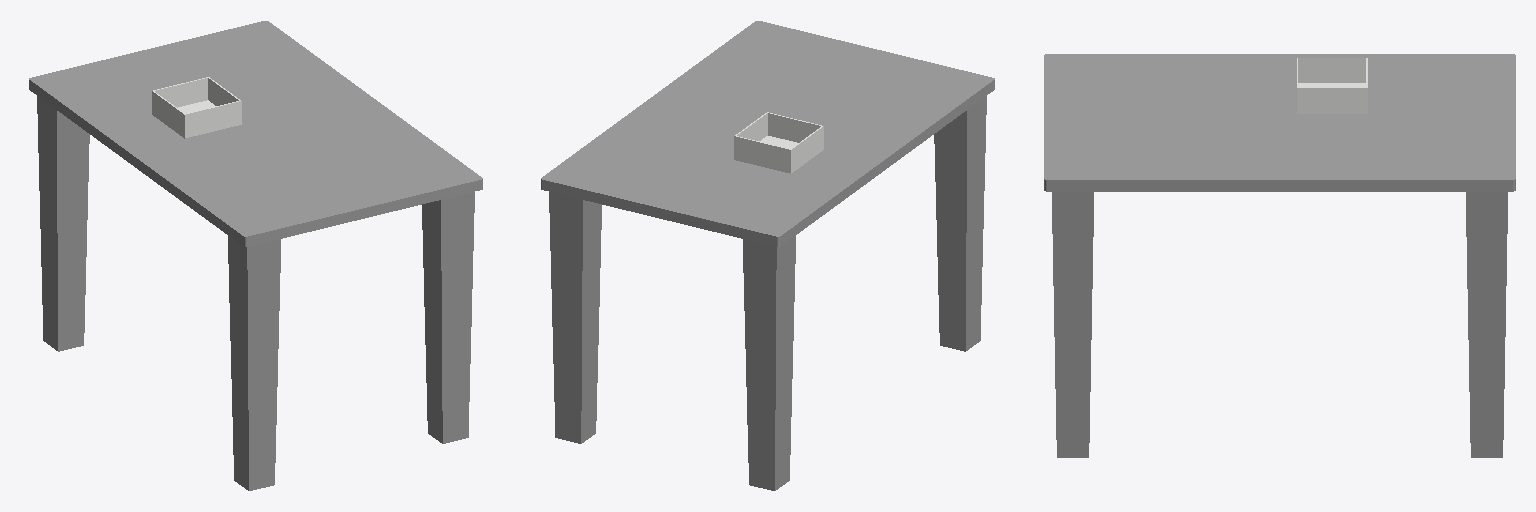
The robot description file, URDF, robot "table":
<?xml version="1.0" encoding="utf-8"?>
<!-- =================================================================================== -->
<!-- |    This document was autogenerated by xacro from Table.xacro                    | -->
<!-- |    EDITING THIS FILE BY HAND IS NOT RECOMMENDED                                 | -->
<!-- =================================================================================== -->
<robot name="table">
  <material name="gray">
    <color rgba="0.675 0.675 0.675 1.000"/>
  </material>
  <material name="off_white">
    <color rgba="0.961 0.961 0.953 1.000"/>
  </material>
  <material name="green">
    <color rgba="0.537 0.878 0.651 1.000"/>
  </material>
  <material name="blue">
    <color rgba="0.419 0.796 0.898 1.000"/>
  </material>

  <link name="world"/>
  <joint name="joint_fix" type="fixed">
    <parent link="world"/>
    <child link="table_link"/>
  </joint>
  <!-- Define base_link as the root link -->
  <link name="table_link">
    <inertial>
      <origin rpy="0 0 0" xyz="0.8381999999999986 -0.22674260990281273 -0.5333999999999964"/>
      <mass value="422.15116184814156"/>
      <inertia ixx="105.743581" ixy="-0.0" ixz="-0.0" iyy="222.544559" iyz="-0.0" izz="209.556172"/>
    </inertial>
    <visual>
      <origin rpy="1.5708 0 -1.5708" xyz=".6 0.95 1.0668 "/>
      <geometry>
        <mesh filename="package://cv_ur5_project/meshes/table_link.stl" scale="0.001 0.001 0.001"/>
      </geometry>
      <material name="gray"/>
    </visual>
    <collision>
      <origin rpy="1.5708 0 -1.5708" xyz=".6 0.95 1.0668 "/>
      <geometry>
        <mesh filename="package://cv_ur5_project/meshes/table_link.stl" scale="0.001 0.001 0.001"/>
      </geometry>
    </collision>
  </link>
  <!-- Joint connecting base_link to WhiteBox_1 -->
  <joint name="whitebox_joint" type="fixed">
    <origin rpy="0 0 0" xyz="0 0 1.0668"/>
    <parent link="table_link"/>
    <child link="WhiteBox"/>
  </joint>
  <!-- Define WhiteBox_1 link -->
  <link name="WhiteBox">
    <inertial>
      <origin rpy="0 0 0" xyz="-1.3167221923904293e-08 0.03334555837563434 9.325099425971928e-08"/>
      <mass value="1.0693583451499975"/>
      <inertia ixx="0.009978" ixy="0.0" ixz="-0.0" iyy="0.017662" iyz="0.0" izz="0.009978"/>
    </inertial>
    <visual>
      <origin rpy="1.5708 0 0" xyz=".5 -.3 0 "/>
      <geometry>
        <mesh filename="package://cv_ur5_project/meshes/WhiteBox.stl" scale="0.001 0.001 0.001"/>
      </geometry>
      <material name="off_white"/>
    </visual>
    <collision>
      <origin rpy="1.5708 0 0" xyz=".5 -.3 0 "/>
      <geometry>
        <mesh filename="package://cv_ur5_project/meshes/WhiteBox.stl" scale="0.001 0.001 0.001"/>
      </geometry>
    </collision>
  </link>
  <gazebo reference="table_link">
    <mu1>100</mu1>
    <mu2>100</mu2>
    <material>Gazebo/DarkGrey</material>
  </gazebo>
  <gazebo reference="WhiteBox">
    <mu1>100</mu1>
    <mu2>100</mu2>
    <material>Gazebo/White</material>
  </gazebo>
</robot>

--- Render facts (derived) ---
3 views of the same robot in one strip: view 1: azimuth 30°, elevation 25°; view 2: azimuth 150°, elevation 25°; view 3: azimuth 270°, elevation 25° (orthographic).
Model table with 3 links and 2 joints (2 fixed), rooted at world, posed every joint at zero.
Visible links, largest first — view 1: table_link, WhiteBox; view 2: table_link, WhiteBox; view 3: table_link, WhiteBox.
Link boxes in pixels (<box>): table_link: <box>29,21,482,490</box>; WhiteBox: <box>152,77,241,138</box>; table_link: <box>541,21,994,490</box>; WhiteBox: <box>734,112,823,173</box>; table_link: <box>1044,54,1515,457</box>; WhiteBox: <box>1297,58,1367,113</box>.
Size in the robot's own frame: 1.07 by 1.68 by 1.21 metres.
Meshes: 2 distinct files referenced, 2 mesh visuals loaded (2 binary STL).